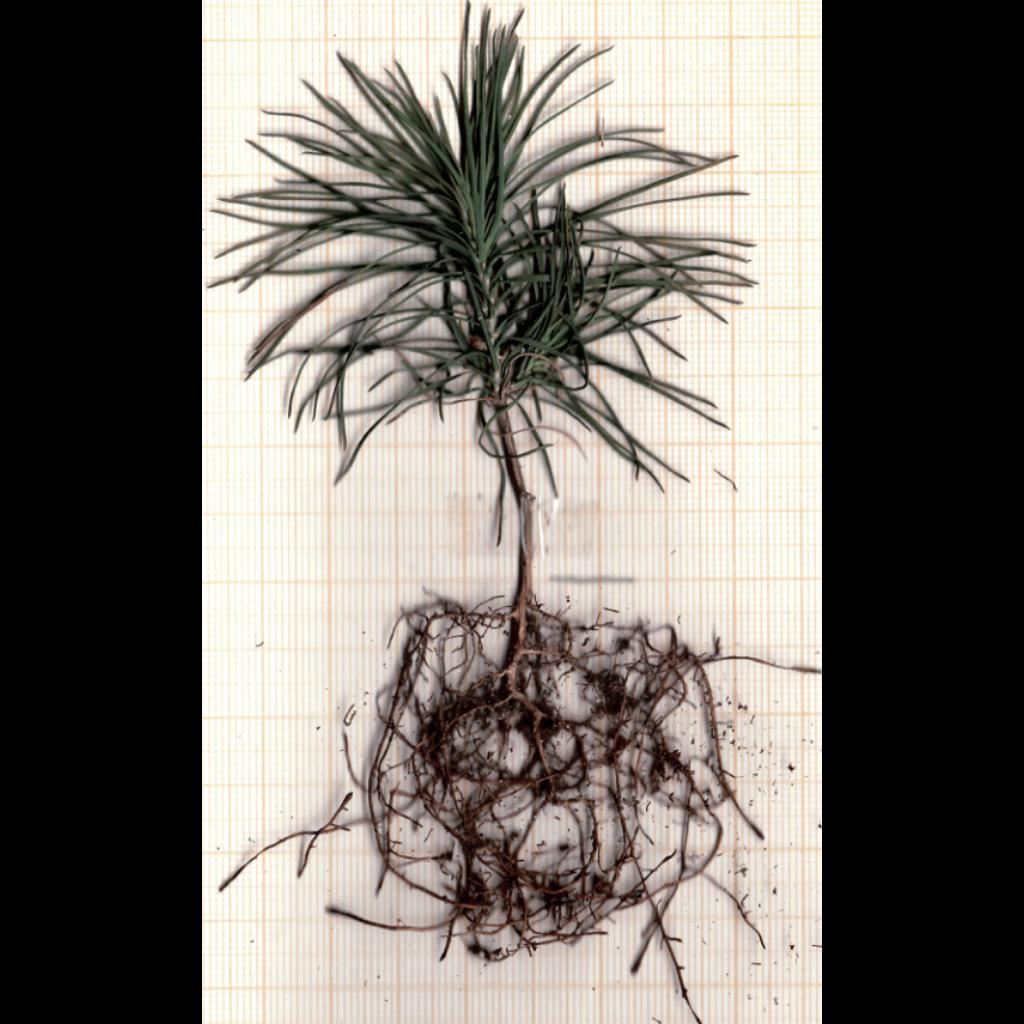flowerCedr: (211, 5, 752, 544)
rootCedr: (328, 597, 821, 1023)
stemCedr: (499, 411, 534, 600)
